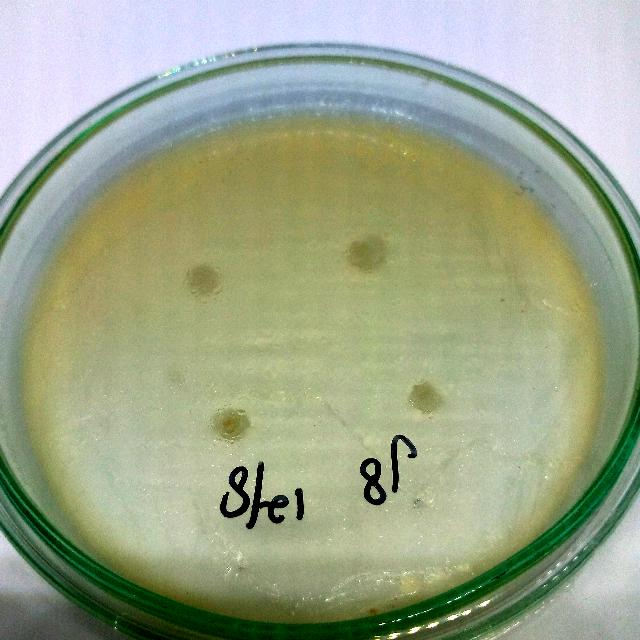colony: (340, 228, 392, 278), (204, 400, 258, 446), (401, 376, 449, 422), (182, 259, 226, 297)
